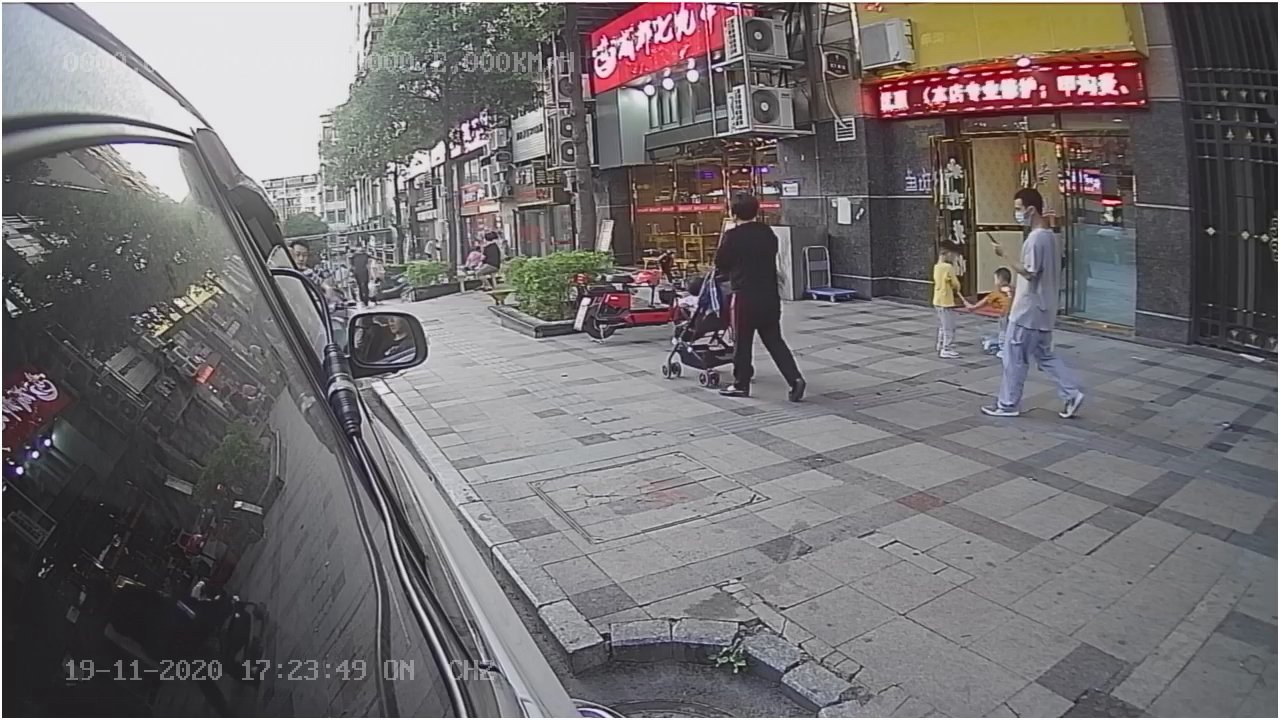person: (715, 192, 810, 410), (999, 191, 1088, 423), (925, 236, 965, 362)
